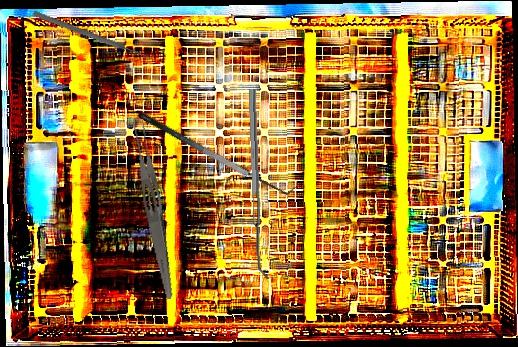Dressing Forceps: (127, 116, 182, 301)
Pusher: (31, 9, 154, 63)
Spatula Surgical: (135, 98, 299, 205), (248, 88, 270, 280)
